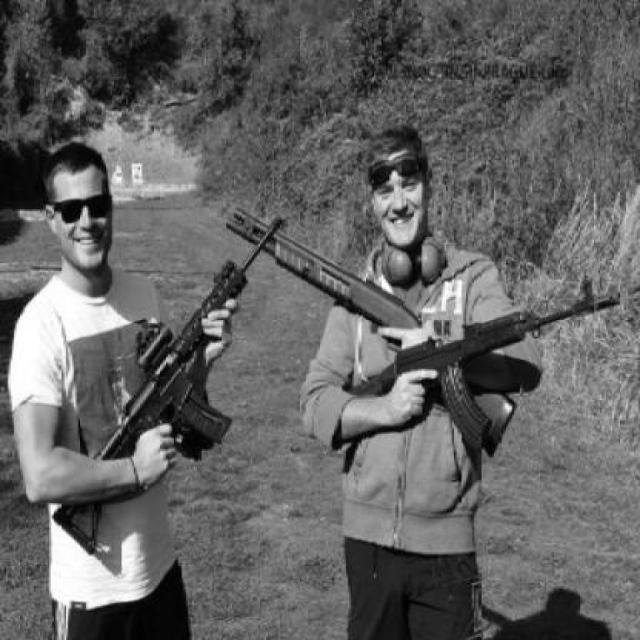weapon: (51, 216, 284, 556), (227, 209, 516, 456), (346, 276, 622, 458)
